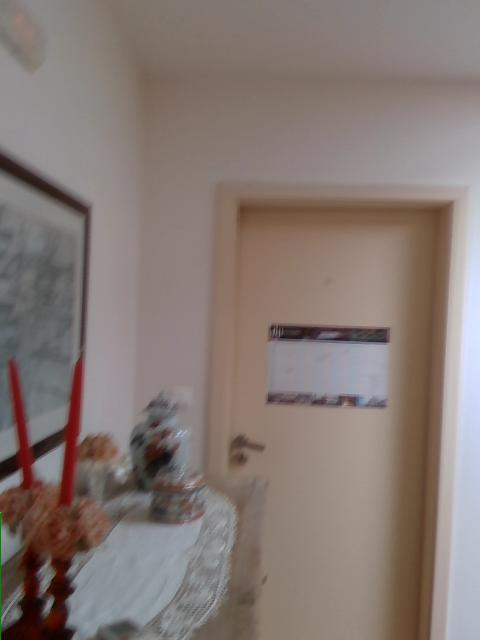door: (204, 187, 471, 636)
